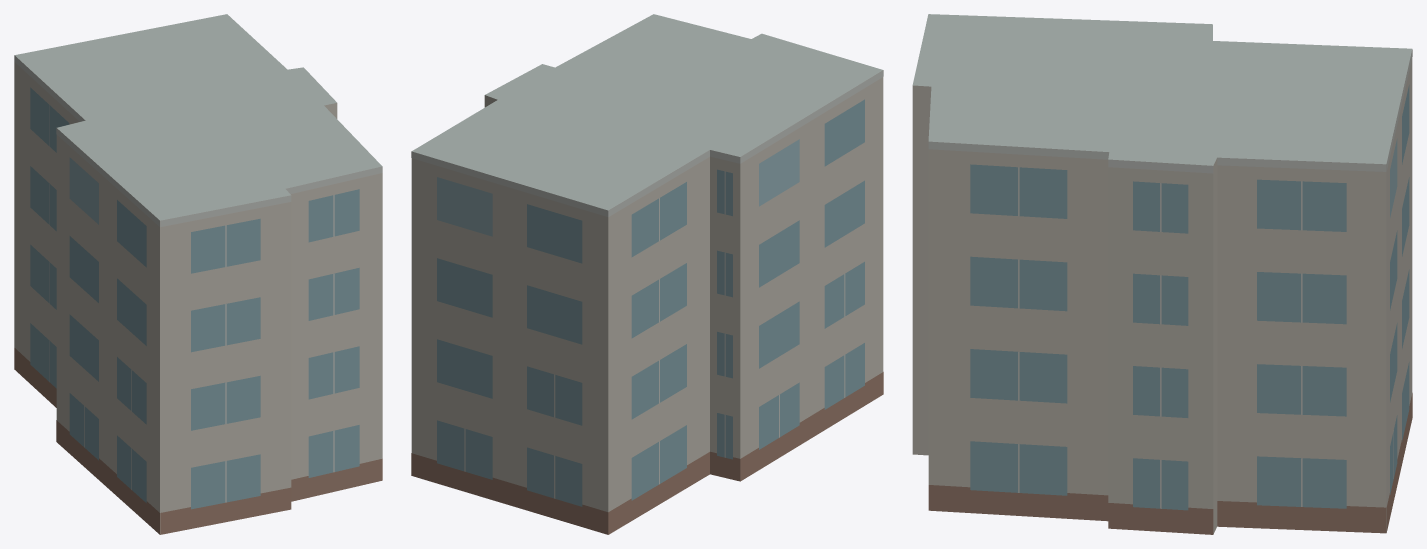
File: survey-upis-32639835.glb
The picture shows the model from 3 angles, left to right: view 1: azimuth 30°, elevation 25°; view 2: azimuth 150°, elevation 25°; view 3: azimuth 270°, elevation 25°; orthographic projection. The views are drawn at different scales.
Parts seen in each view (by area): view 1: survey-upis-32639835.tmp; view 2: survey-upis-32639835.tmp; view 3: survey-upis-32639835.tmp.
Boxes of the visible parts, x1,y1,x2,y2 form: survey-upis-32639835.tmp: [14, 14, 382, 534]; survey-upis-32639835.tmp: [411, 14, 883, 534]; survey-upis-32639835.tmp: [912, 14, 1412, 534].
Size of the model in its own units: 10.33 by 11.7 by 14.38.
